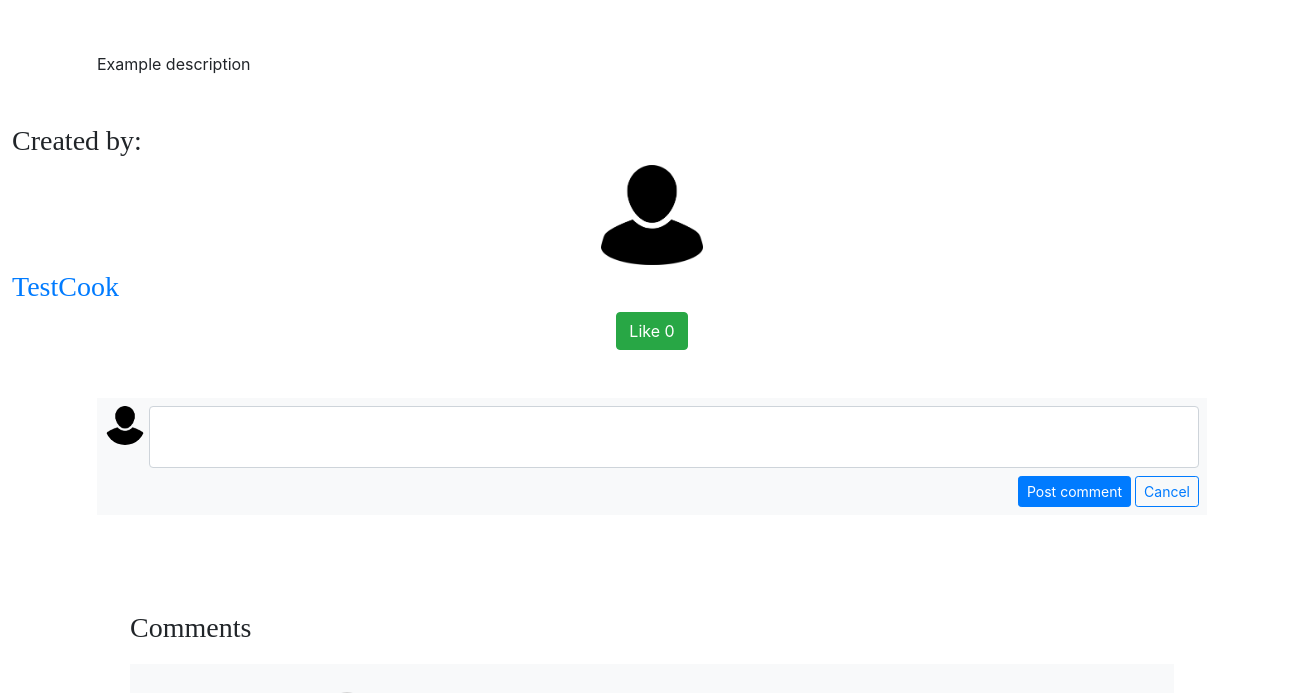
Scenario: RecipeDetails › like functionality works correctly
The image size is (1292, 693).
(page scrolled)
Click the button with test id "recipe-details-like-cta": [652, 331] box [616,312,688,350]
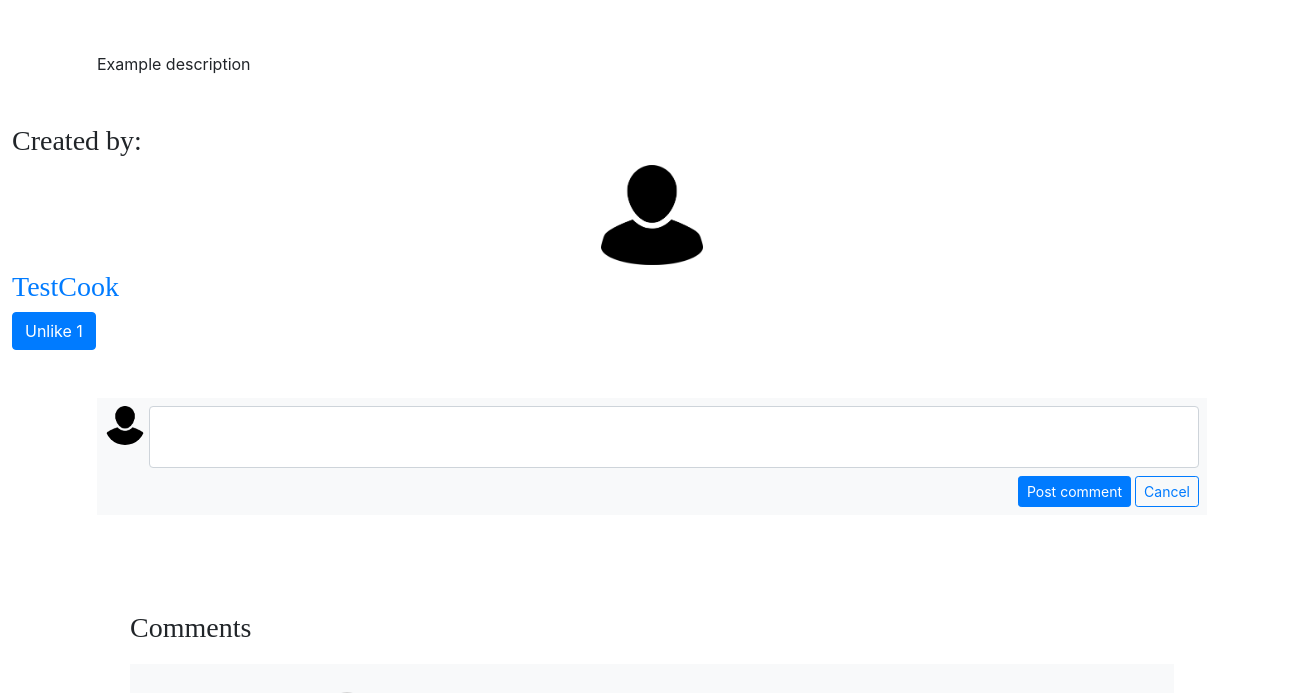
Expected: the button with test id "recipe-details-unlike-cta" reads "Unlike 1", [12,312,96,350]
